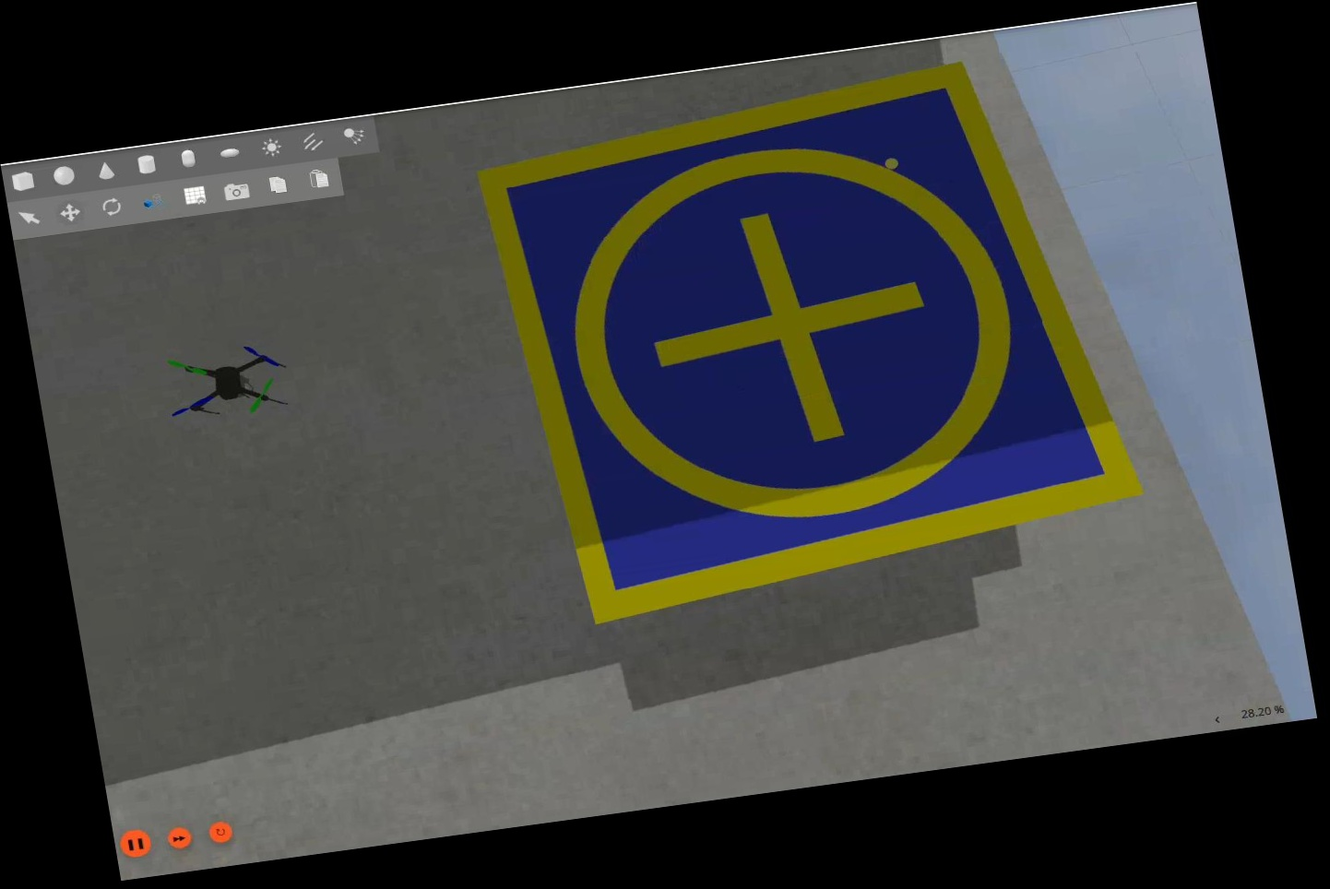small_base: (469, 47, 1154, 634)
